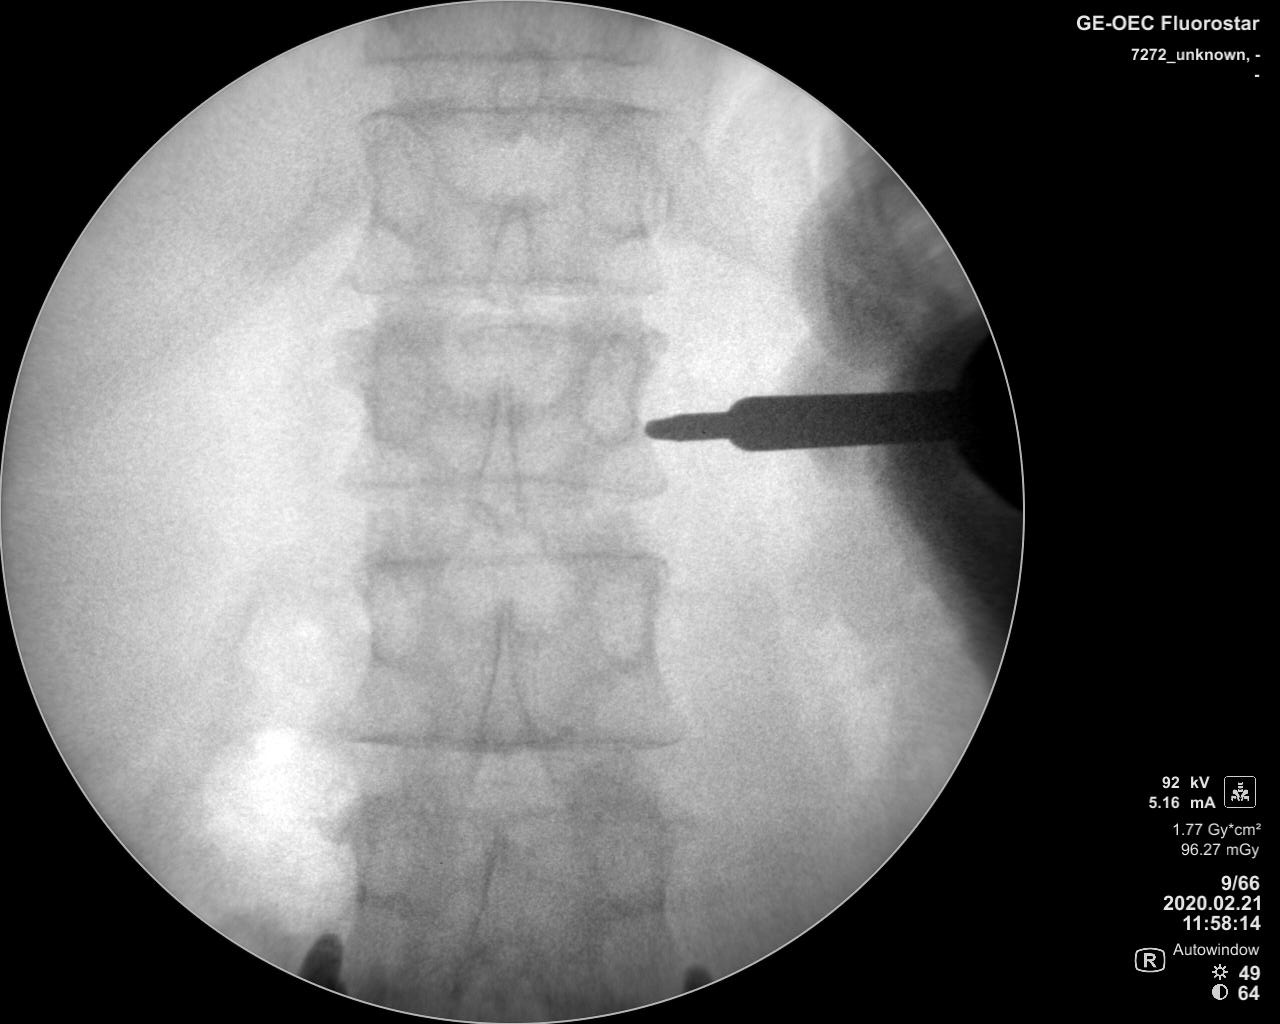eyes: (355, 115, 439, 237), (584, 107, 661, 237), (591, 799, 674, 918), (344, 795, 429, 904), (351, 563, 437, 669), (358, 333, 435, 450), (588, 556, 661, 677), (578, 329, 641, 452)
line: (318, 713, 693, 762), (324, 463, 674, 504), (328, 265, 681, 302), (304, 539, 681, 573), (344, 88, 670, 125), (356, 41, 662, 76), (326, 319, 678, 348)
nose: (467, 588, 540, 774), (465, 366, 535, 543), (466, 813, 533, 978), (483, 193, 539, 310), (489, 28, 544, 133)
